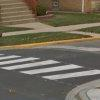Crosswalk: (9, 45, 86, 91)
